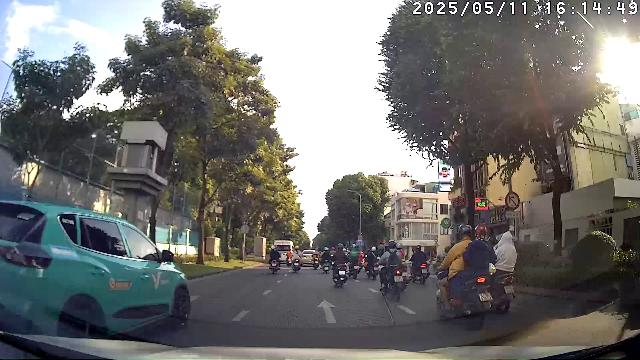103b-cam-oto-re-phai: (504, 192, 520, 210)
